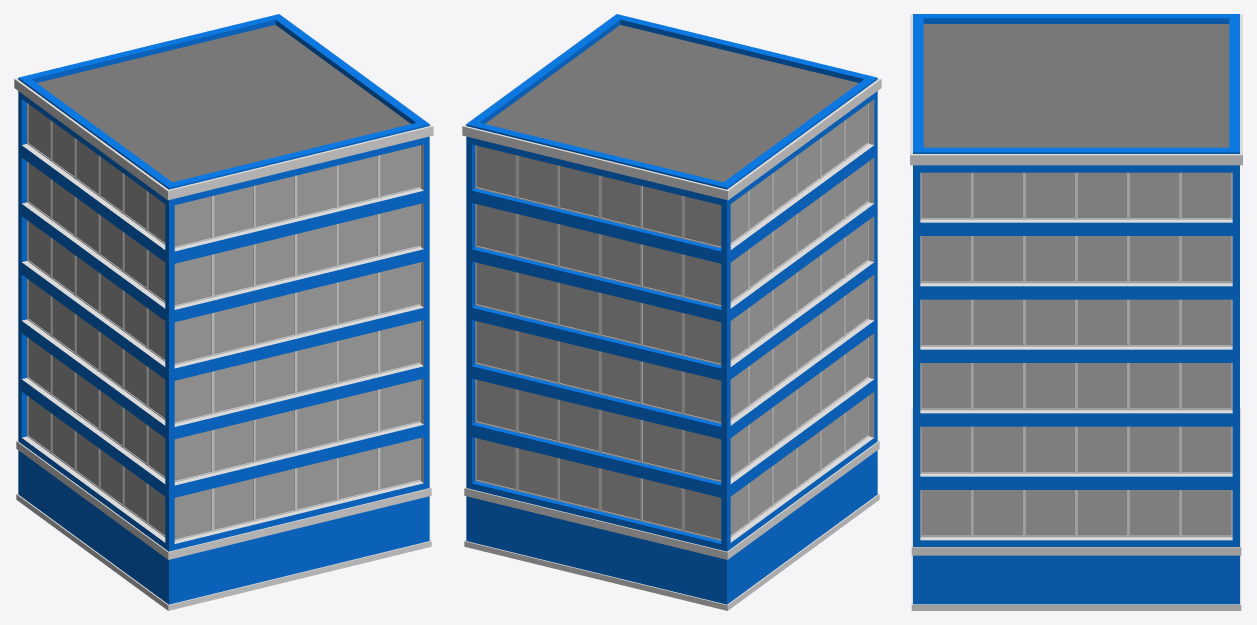
Rendered from SM_House_04_02.FBX.
The picture shows the model from 3 angles, left to right: view 1: azimuth 30°, elevation 25°; view 2: azimuth 150°, elevation 25°; view 3: azimuth 270°, elevation 25°; orthographic projection. The views are drawn at different scales.
Visible parts, largest first — view 1: SM_House_04_02; view 2: SM_House_04_02; view 3: SM_House_04_02.
Part boxes in pixels (<box>): SM_House_04_02: <box>14,14,433,610</box>; SM_House_04_02: <box>462,14,881,610</box>; SM_House_04_02: <box>910,14,1242,610</box>.
Size of the model in its own units: 6.11 by 9.28 by 6.11.
Materials: 1 (1 with a texture image).
